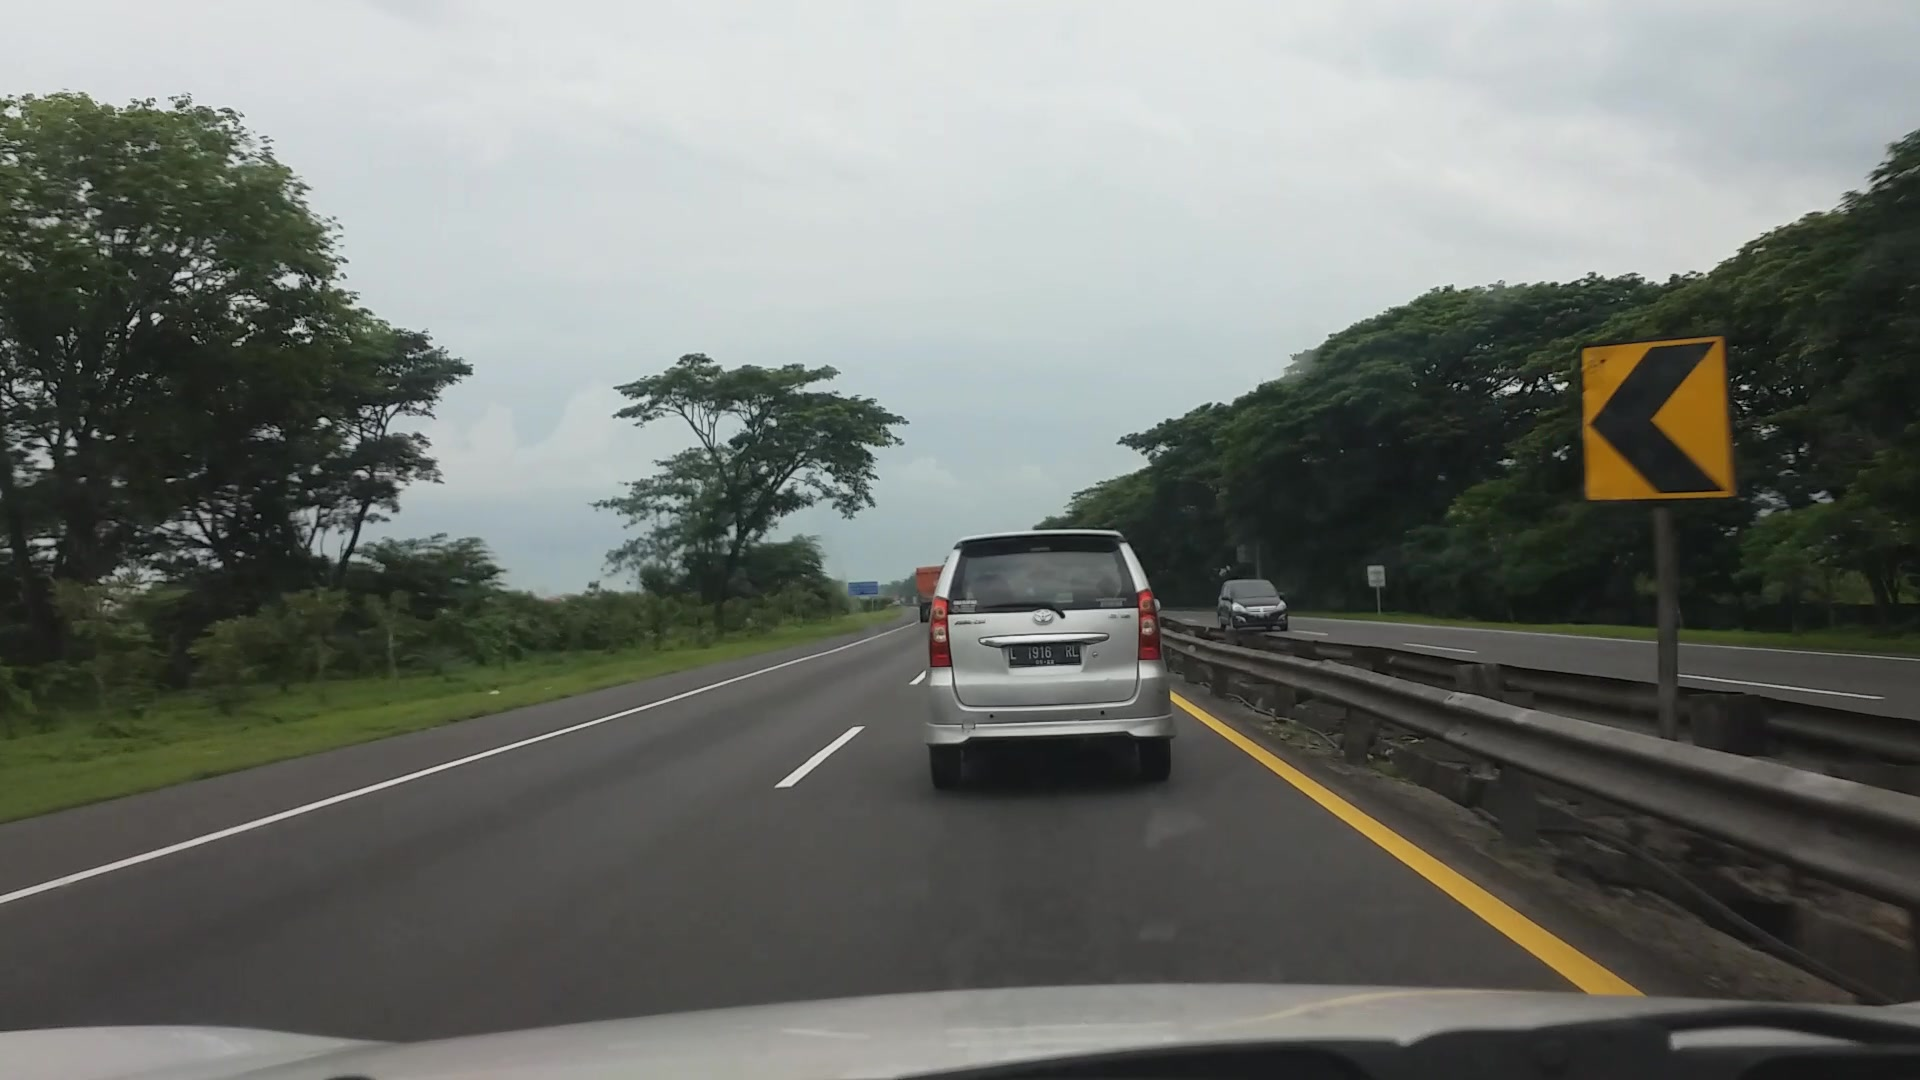plate_positive: (1009, 644, 1081, 666)
